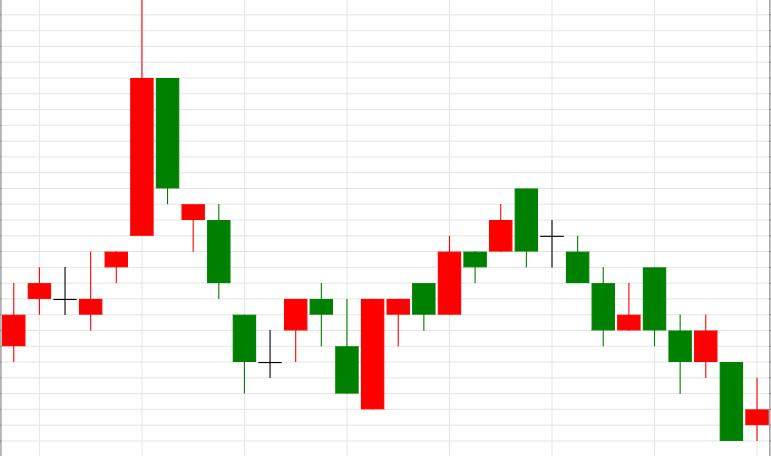bearish_engulfing_fall: (362, 189, 537, 409)
morning_star_rise: (156, 78, 307, 394)
